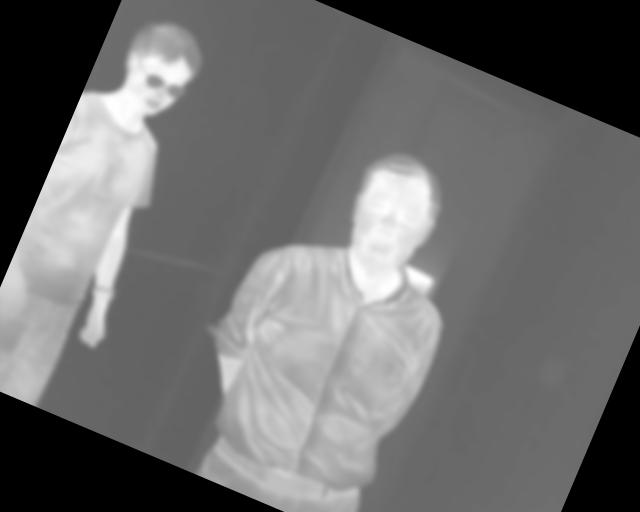face: (328, 140, 458, 288), (106, 9, 214, 130)
